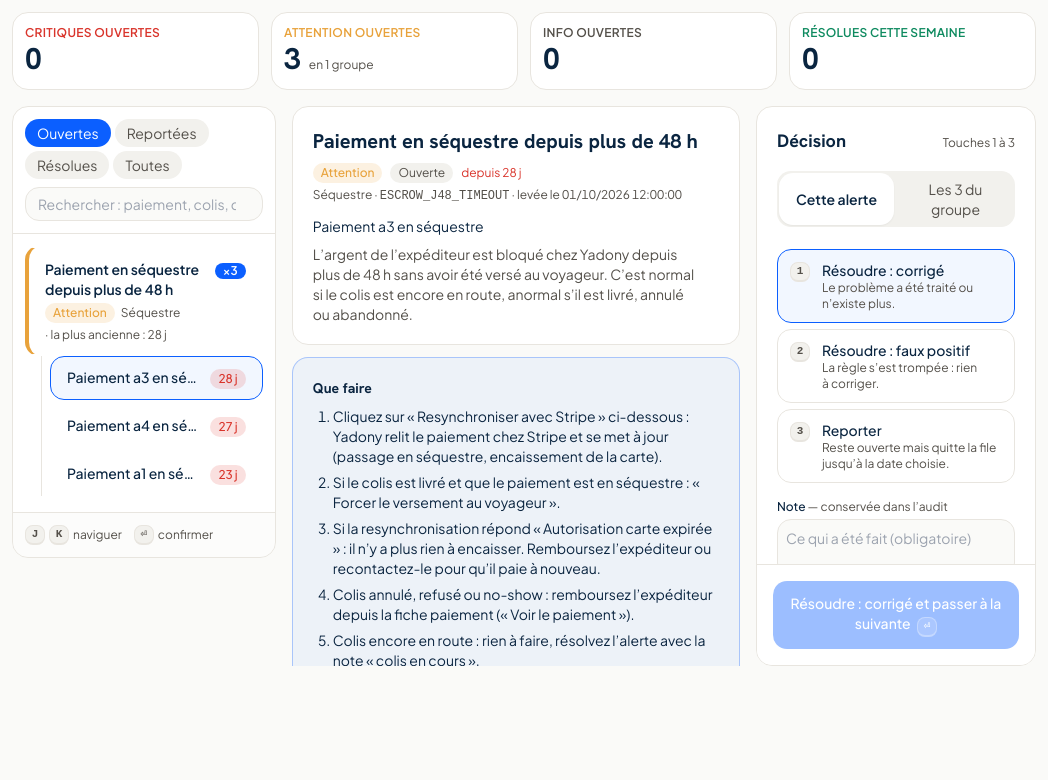
pages/alertes › serveur à jour : le groupe part en une seule requête
The image size is (1048, 780).
Step 1. Click the button with test id "scope-group" → [956, 199], box 898,173 -> 1013,225
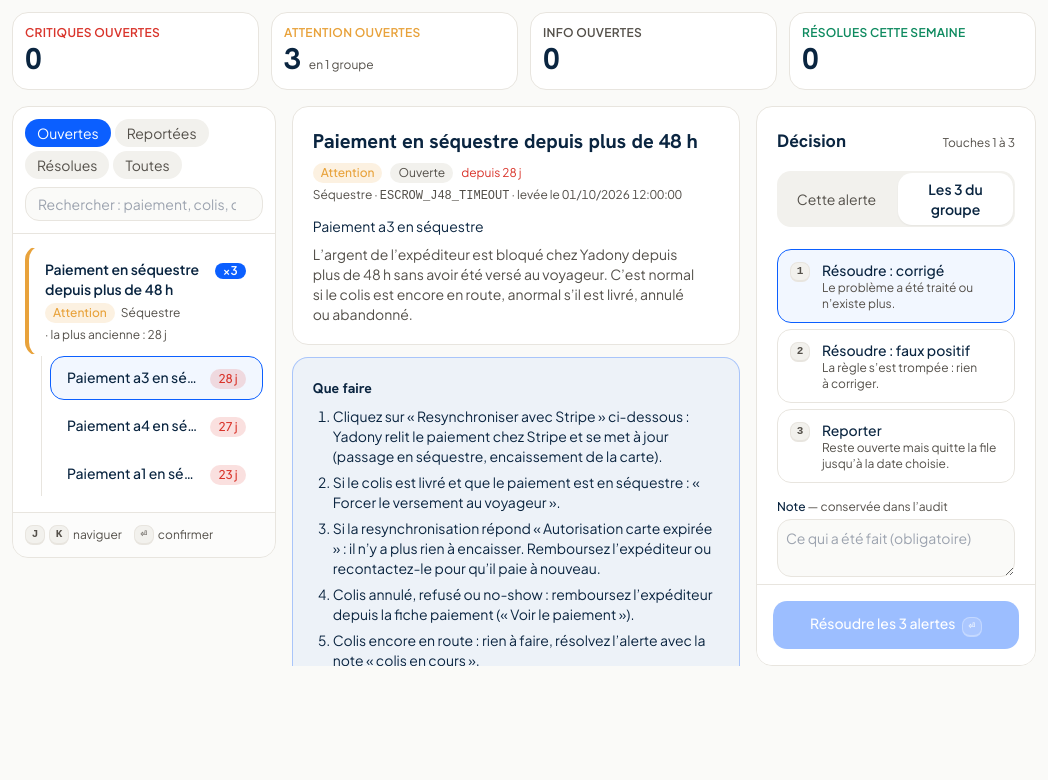
Step 2. Type "Versement forcé" into the text box with test id "alert-note" → [896, 548], box 777,519 -> 1015,577
(page scrolled)
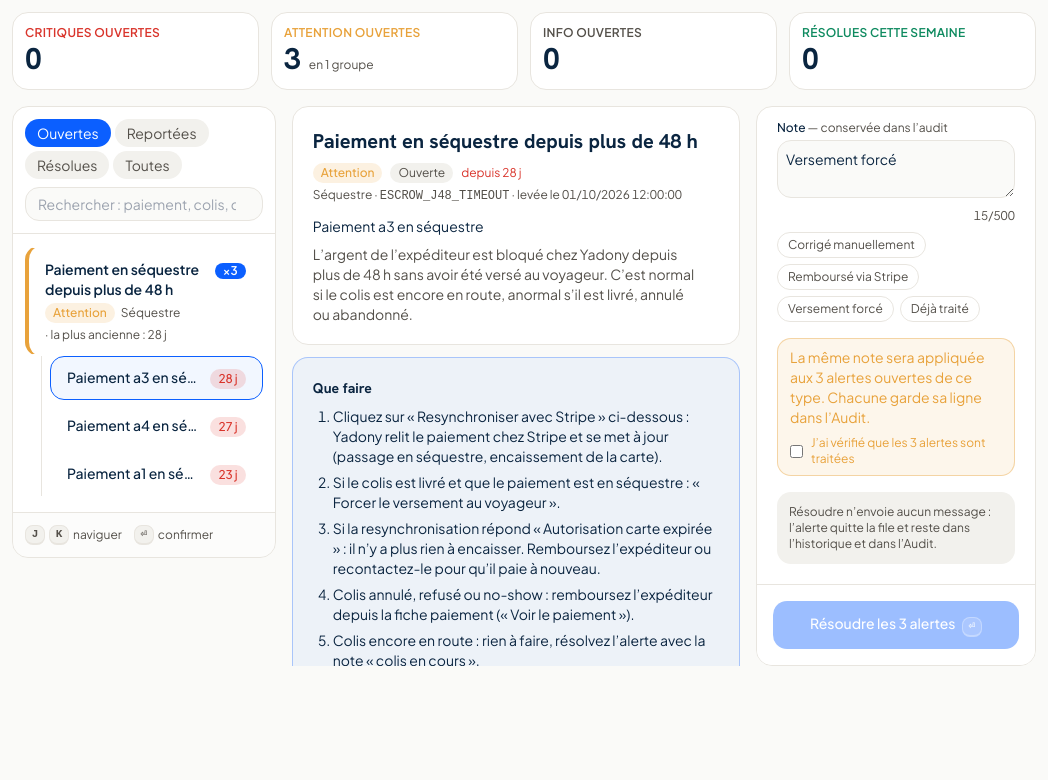
Step 3. Click the checkbox with test id "alert-acknowledge" → [796, 451], box 790,444 -> 803,458
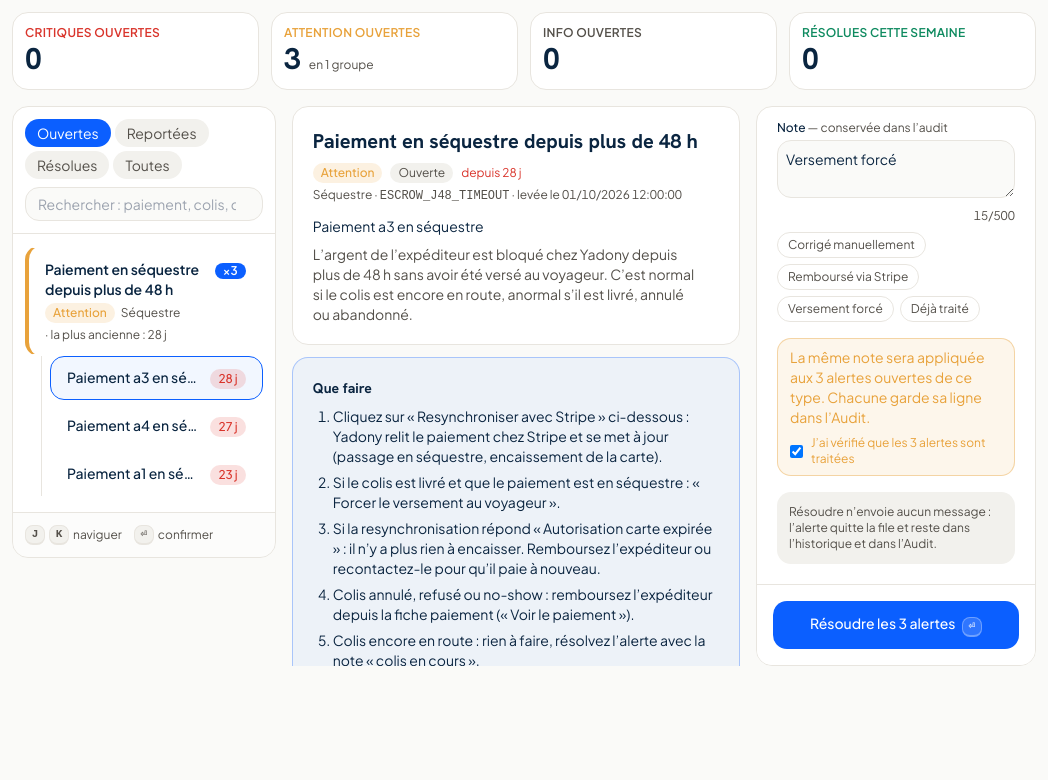
Step 4. Click the button with test id "alert-confirm" → [896, 625], box 773,601 -> 1019,649
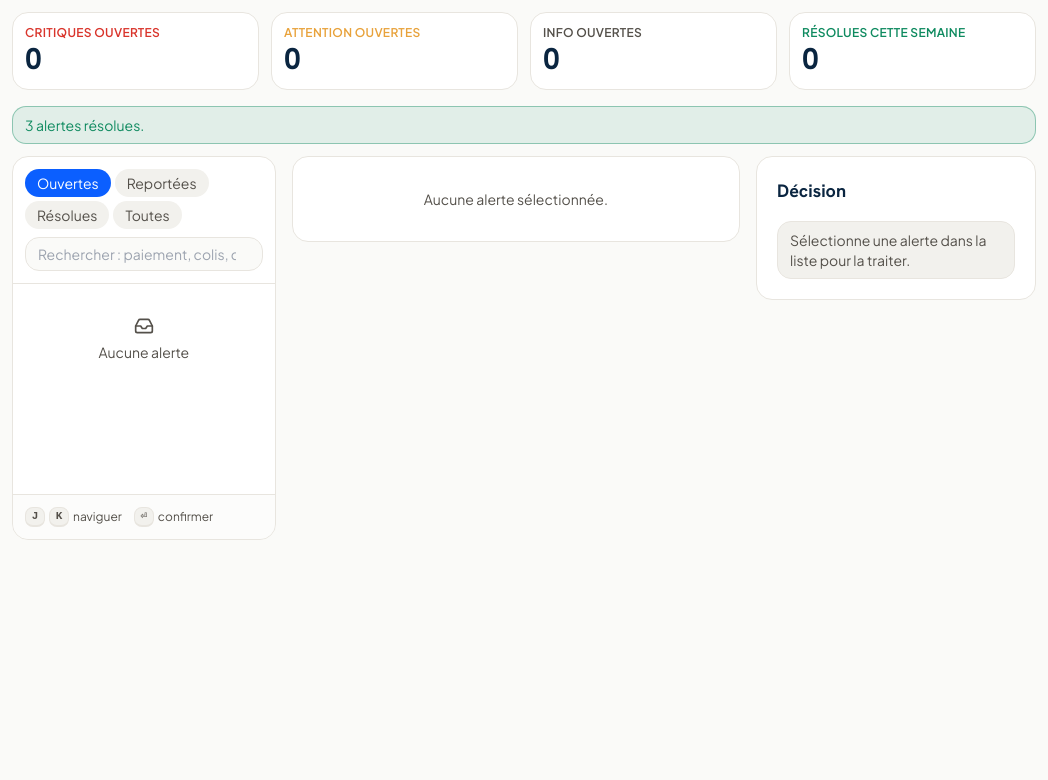
Expected: the message with test id "alerts-done" reads "3 alertes résolues.", 25,116 -> 144,134
